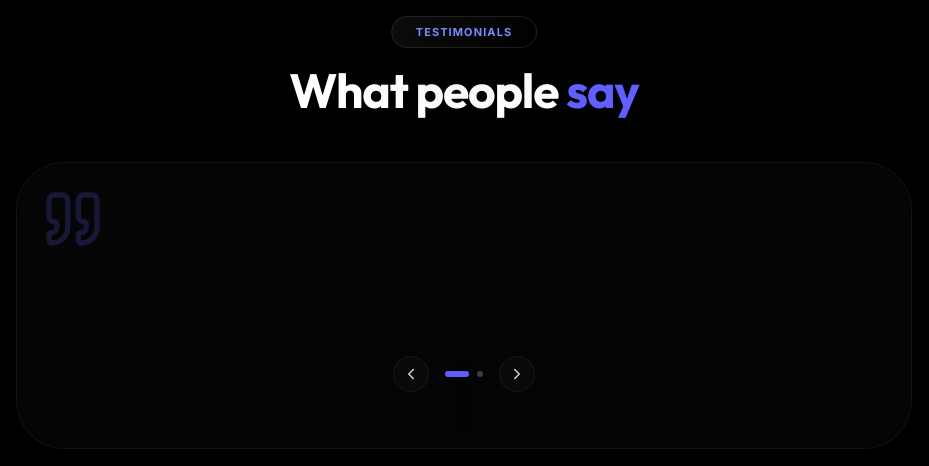
Display components › Testimonials renders quotes from Firestore and advances the carousel
The width and height of the screenshot is (929, 466).
What coordinates should you click on to do the following:
click the button named "Next testimonial"
I would click on:
 (517, 374)
Its box is [499,356,535,392].
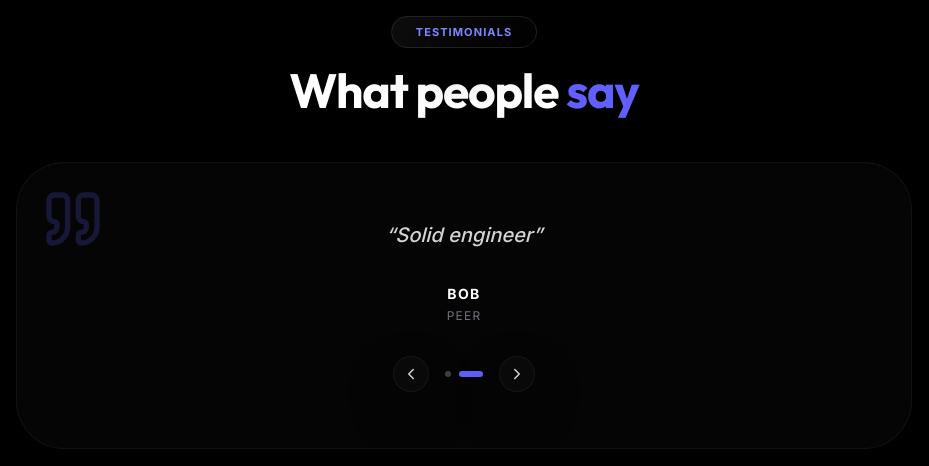
Check: the text "“Solid engineer”" is shown, box [386,223,542,247]
Check: the text "Bob" is shown, box [447,284,481,304]
